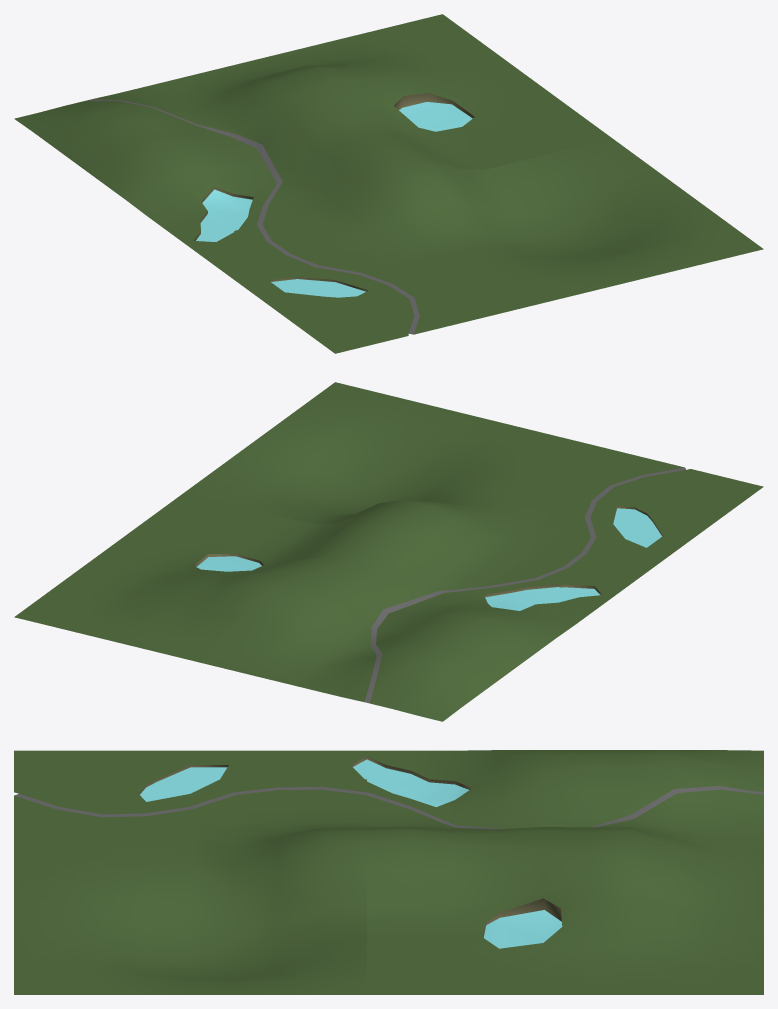
The model's file is rock_kicking_park_ground.glb.
3 views of the same model, one above another, from view 1: azimuth 30°, elevation 25°; view 2: azimuth 150°, elevation 25°; view 3: azimuth 270°, elevation 25° (orthographic). The views are drawn at different scales.
Visible parts, largest first — view 1: TestGroundBottom, TestGroundTop, TestWater2, TestPath2; view 2: TestGroundTop, TestGroundBottom, TestWater2, TestPath2; view 3: TestGroundTop, TestGroundBottom, TestWater2, TestPath2.
Part boxes in pixels (left/top/right/bottom): TestGroundBottom: left=184, top=138, right=763, bottom=353; TestGroundTop: left=14, top=14, right=612, bottom=242; TestWater2: left=194, top=93, right=474, bottom=297; TestPath2: left=88, top=99, right=419, bottom=334; TestGroundTop: left=14, top=493, right=612, bottom=721; TestGroundBottom: left=184, top=382, right=763, bottom=597; TestWater2: left=193, top=506, right=662, bottom=610; TestPath2: left=364, top=467, right=685, bottom=703; TestGroundTop: left=365, top=750, right=763, bottom=994; TestGroundBottom: left=14, top=750, right=368, bottom=994; TestWater2: left=139, top=756, right=562, bottom=948; TestPath2: left=14, top=786, right=763, bottom=829.
Size of the model in its own units: 840 by 100 by 1090.
